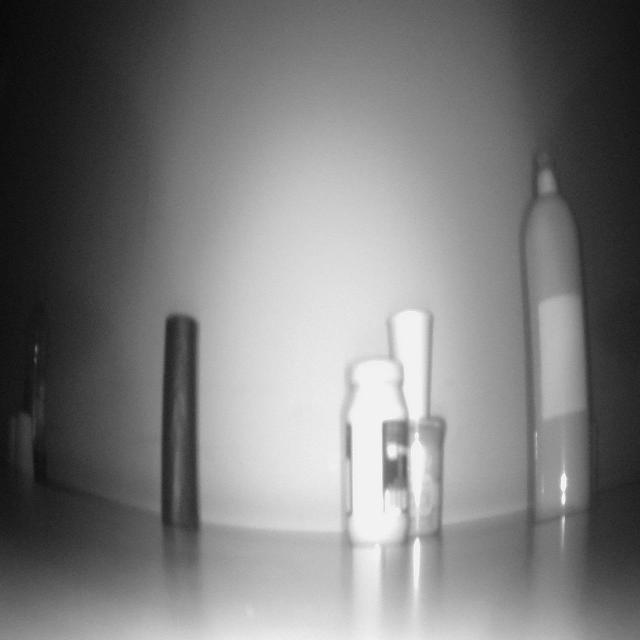targets: (522, 147, 587, 526), (342, 357, 410, 544), (160, 314, 200, 532), (386, 307, 435, 420), (406, 419, 446, 535), (8, 406, 38, 484)
